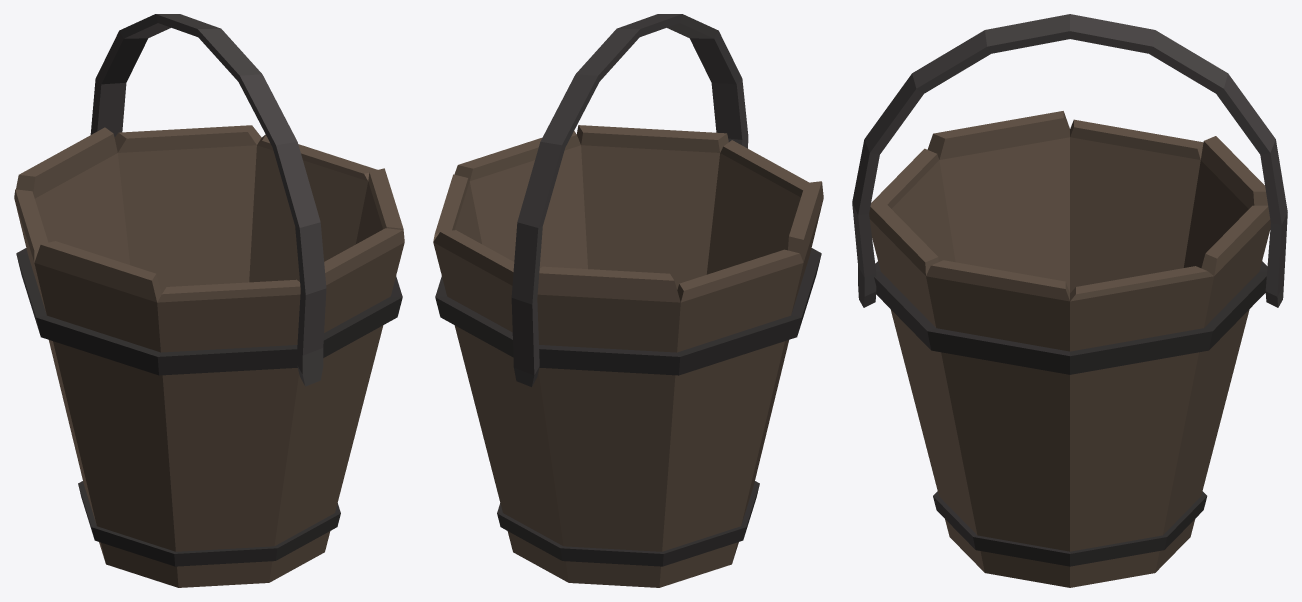
The model's file is bucket.glb.
The picture shows the model from 3 angles, left to right: view 1: azimuth 30°, elevation 25°; view 2: azimuth 150°, elevation 25°; view 3: azimuth 270°, elevation 25°; orthographic projection.
Visible parts, largest first — view 1: prop_bucket; view 2: prop_bucket; view 3: prop_bucket.
Boxes of the visible parts, box(x1,y1,x2,y2) form: prop_bucket: box(14, 14, 404, 587); prop_bucket: box(433, 14, 823, 587); prop_bucket: box(852, 14, 1287, 587).
Size of the model in its own units: 0.2715 by 0.38 by 0.2901.
